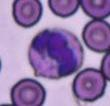N: (28, 28, 83, 78)
